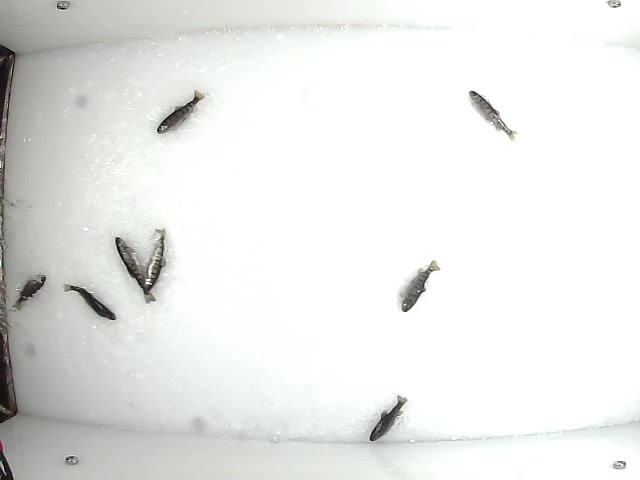fish: (113, 233, 156, 307), (466, 87, 518, 141), (396, 255, 441, 312), (153, 89, 207, 135), (62, 282, 118, 323), (367, 392, 409, 444), (9, 270, 47, 314), (144, 225, 167, 290)
